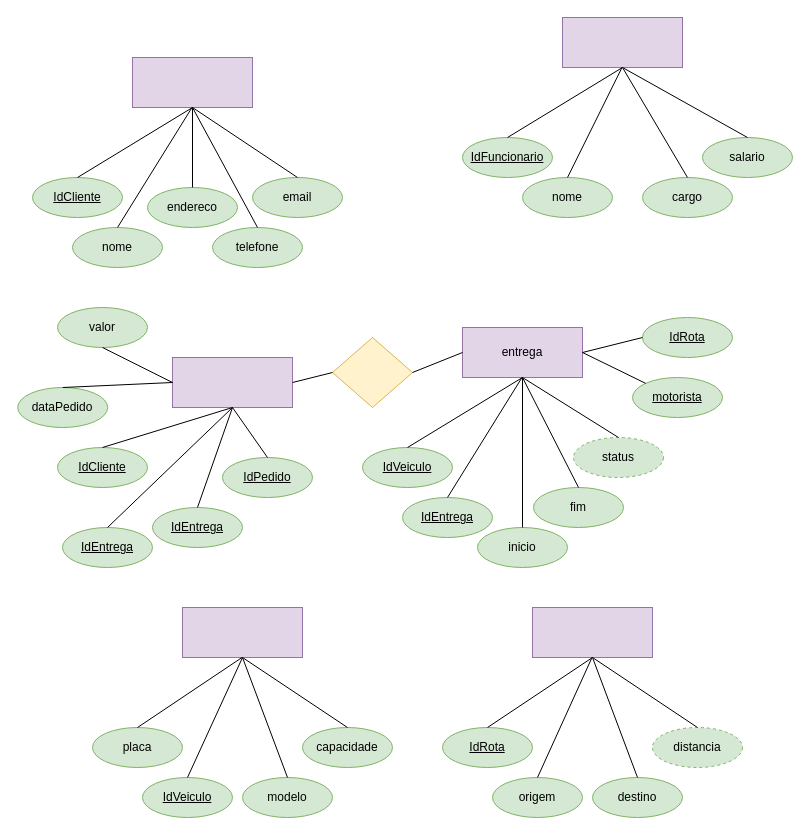
Some shapes in this 810 by 835 pixel diagram are drawn without their labels. The shapes that lost their labels are listed below. From the top down, each one's box as (x1, y1, x2, y2) in pixels, then its label:
(562, 16, 682, 68): funcionario
(132, 56, 252, 108): cliente
(172, 356, 292, 408): pedido
(332, 336, 412, 408): possui
(182, 606, 302, 658): veiculo
(532, 606, 652, 658): rota
